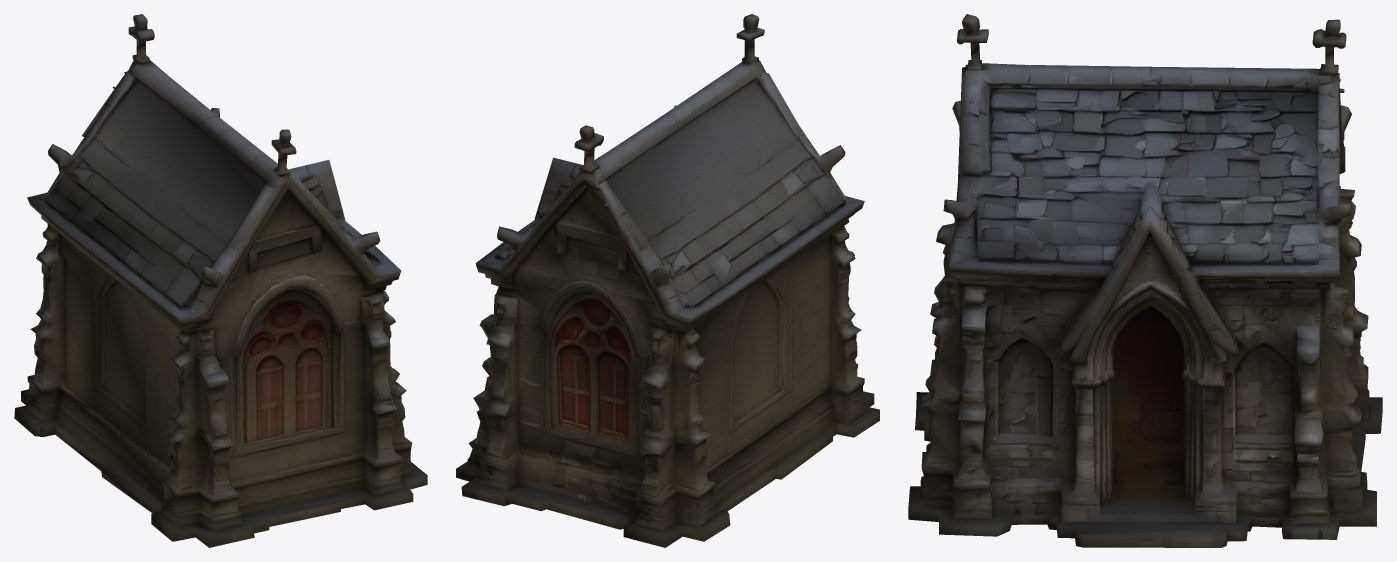
File: mausoleum.glb
The picture shows the model from 3 angles, left to right: view 1: azimuth 30°, elevation 25°; view 2: azimuth 150°, elevation 25°; view 3: azimuth 270°, elevation 25°; orthographic projection. The views are drawn at different scales.
Parts seen in each view (by area): view 1: tripo_node_d217e155-a879-458a-b8f3-7a6fbbbd1f56; view 2: tripo_node_d217e155-a879-458a-b8f3-7a6fbbbd1f56; view 3: tripo_node_d217e155-a879-458a-b8f3-7a6fbbbd1f56.
Boxes of the visible parts, x1,y1,x2,y2 form: tripo_node_d217e155-a879-458a-b8f3-7a6fbbbd1f56: (14, 14, 427, 547); tripo_node_d217e155-a879-458a-b8f3-7a6fbbbd1f56: (456, 14, 879, 547); tripo_node_d217e155-a879-458a-b8f3-7a6fbbbd1f56: (908, 14, 1382, 547).
Bounding box in the file's own units: 0.7559 × 0.998 × 0.9668.
Materials: 1 (1 with a texture image).
